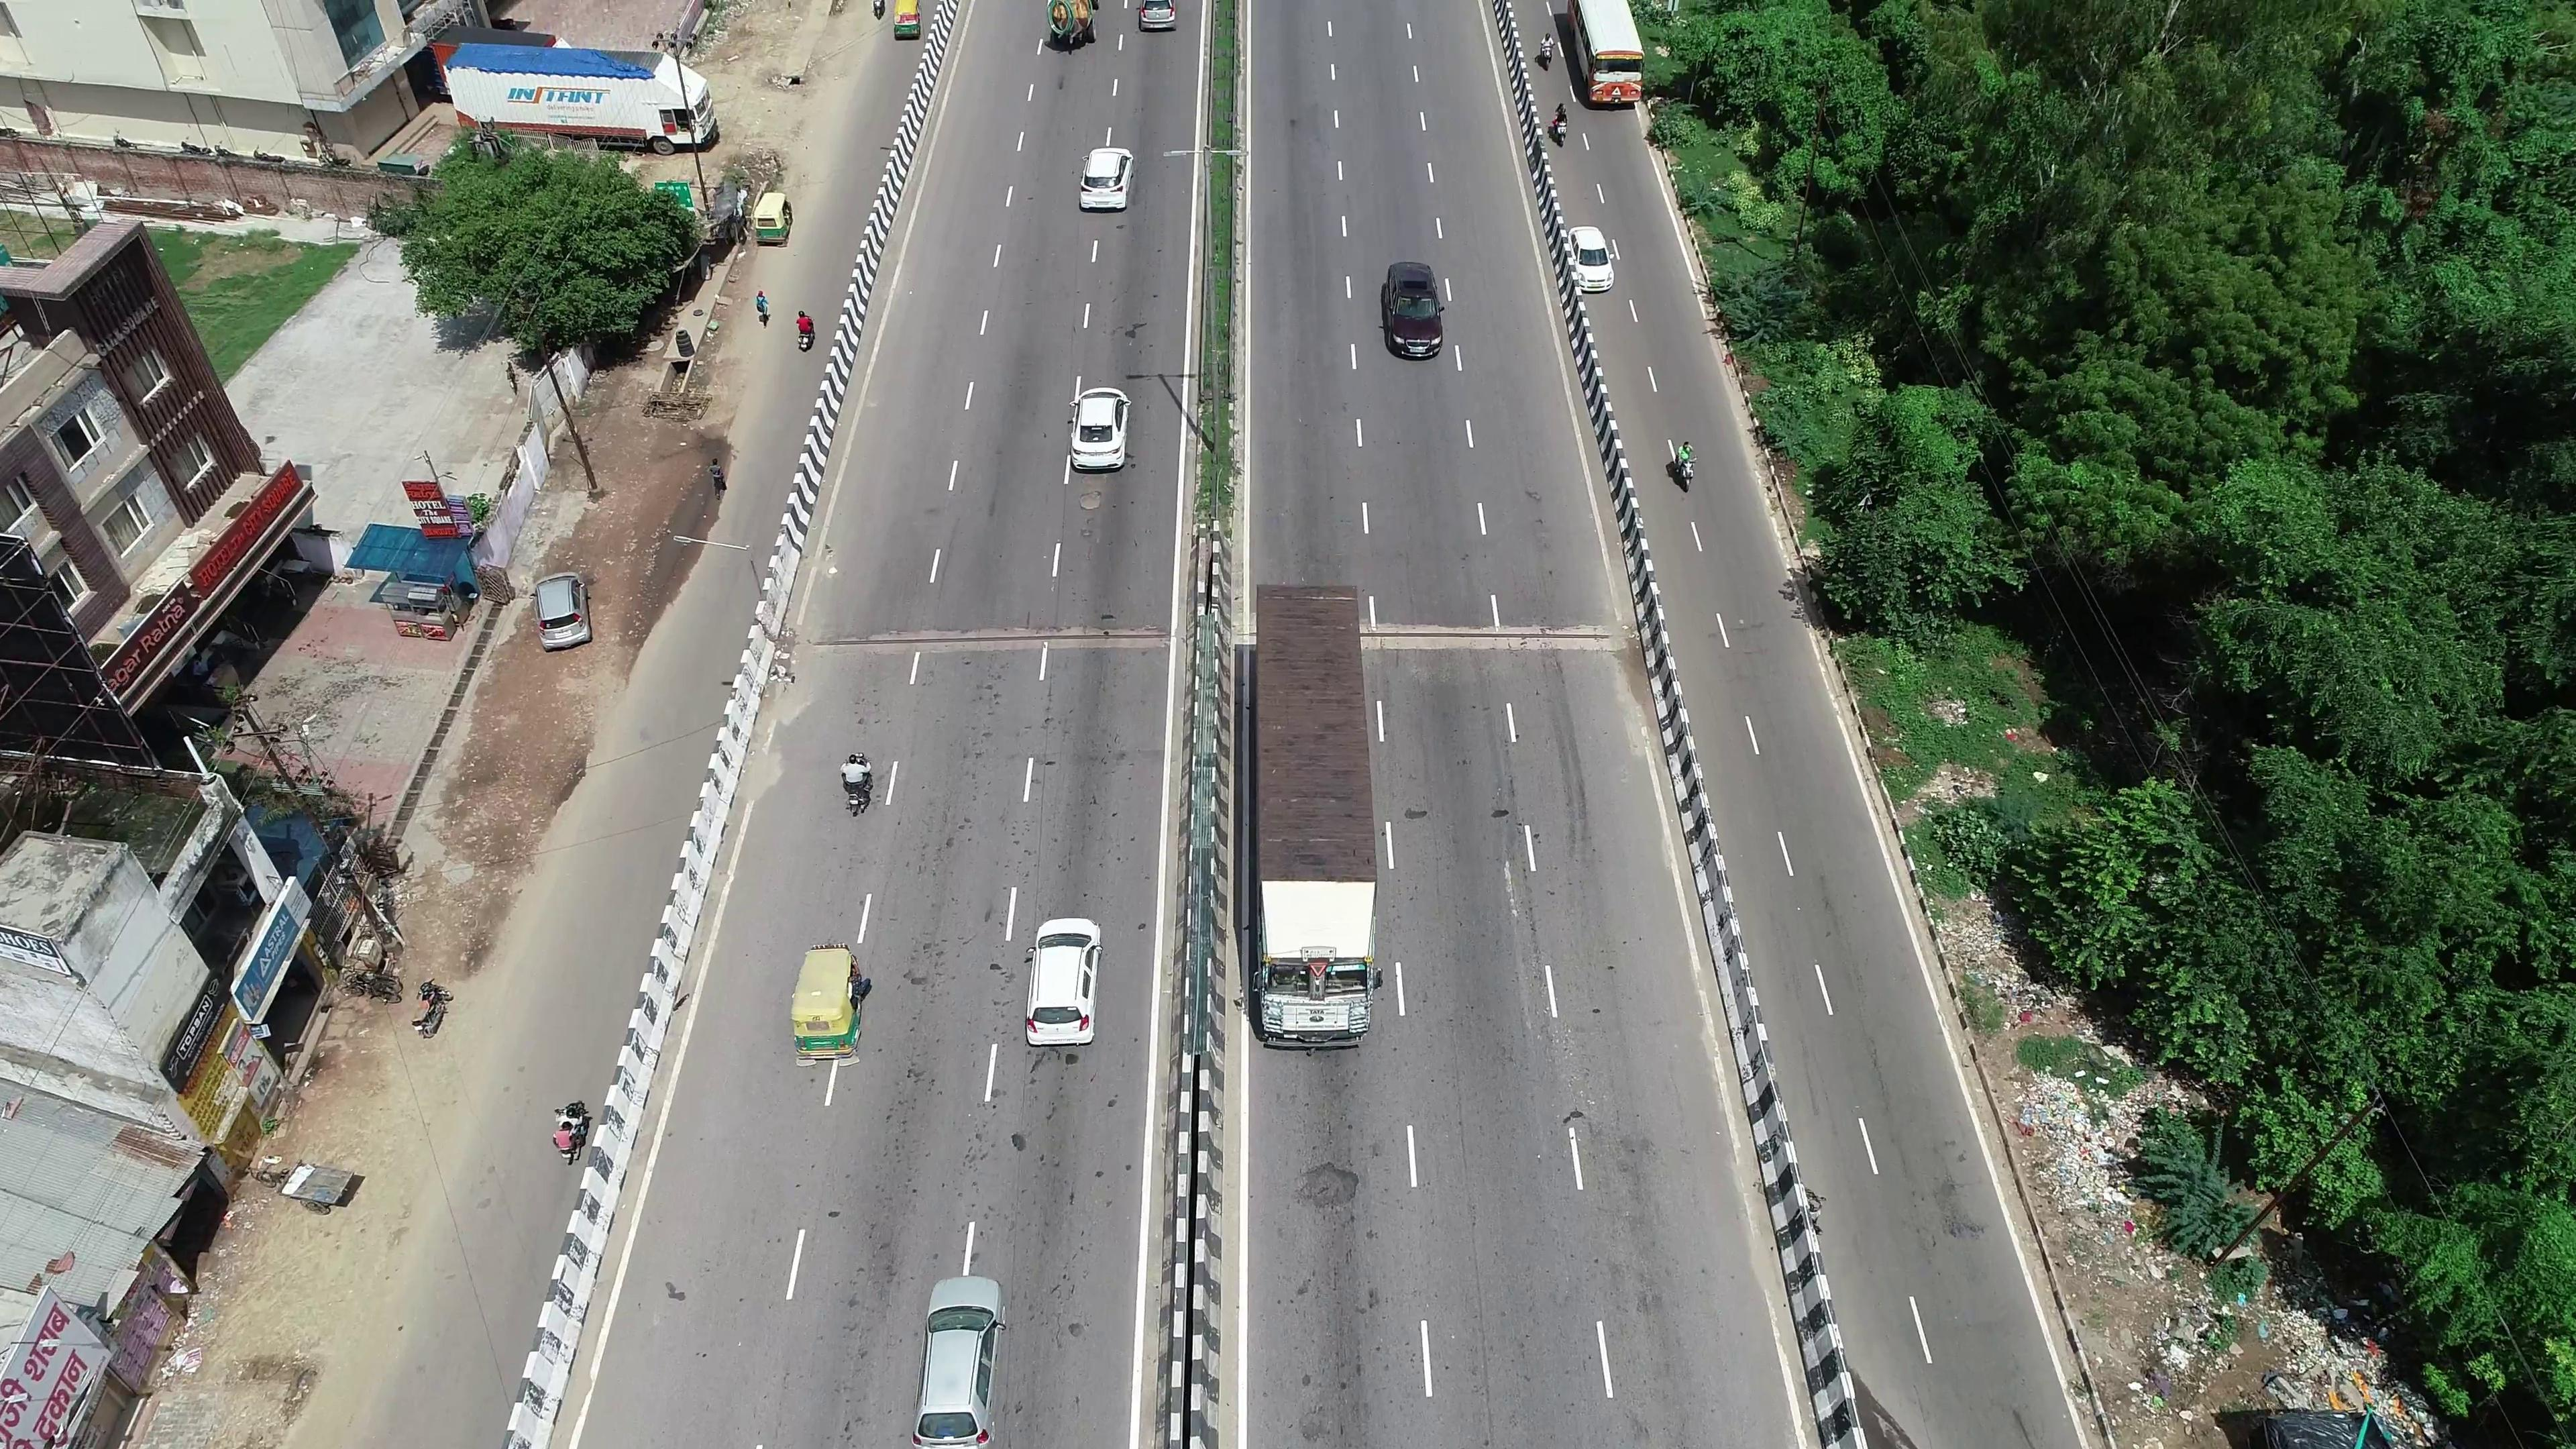Potholes: (1037, 469, 1118, 534)
